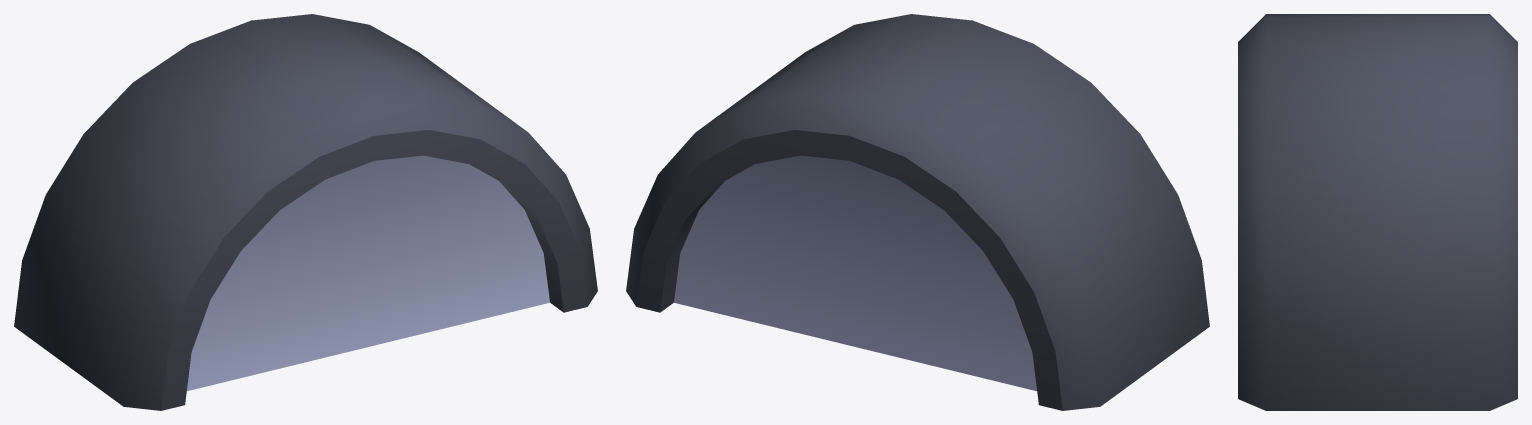
The model's file is block-snow-curve.glb.
3 renders of one model, left to right at view 1: azimuth 30°, elevation 25°; view 2: azimuth 150°, elevation 25°; view 3: azimuth 270°, elevation 25°, orthographic. The views are drawn at different scales.
Parts seen in each view (by area): view 1: block-snow-curve; view 2: block-snow-curve; view 3: block-snow-curve.
Part boxes in pixels (x1=…): block-snow-curve: x1=14, y1=14, x2=597, y2=410; block-snow-curve: x1=626, y1=14, x2=1209, y2=410; block-snow-curve: x1=1238, y1=14, x2=1517, y2=410.
Size of the model in its own units: 2 by 1 by 1.
